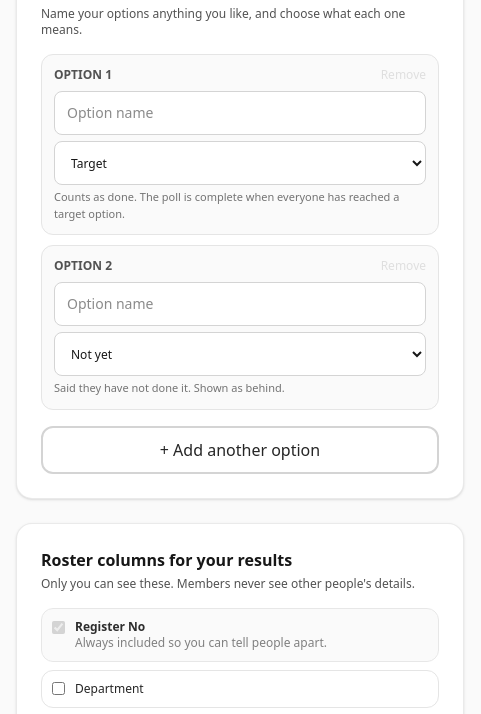
NewPollPage › options editor starts with two empty rows, defaults roles, shows help text, allows adding/removing, and deadline note is present without mode radio group
The width and height of the screenshot is (481, 714).
(page scrolled)
Expected: the text "Name your options anything you like, and choose what each one means." is shown, [41,6,439,38]
Expected: the number of fields with placeholder "Option name" is 2, [54,91,426,135]; [54,282,426,326]
// Changing second role to "In progress" updates help text
Step 1. Select "In progress" in the dropdown named "Option 2 role" → (240, 354), box [54,332,426,376]
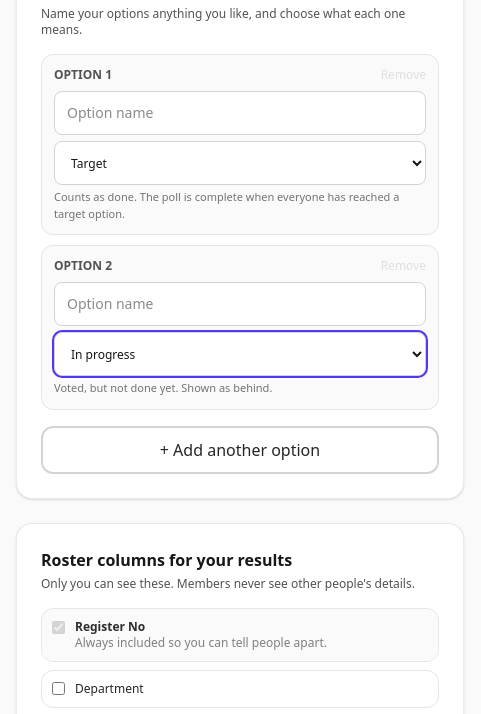
Expected: the text "Voted, but not done yet. Shown as behind." is shown, [54,380,272,395]
// Adding an option row adds a row defaulting to not_yet
Step 2. Click the button "+ Add another option" → (240, 450), box [41,426,439,474]
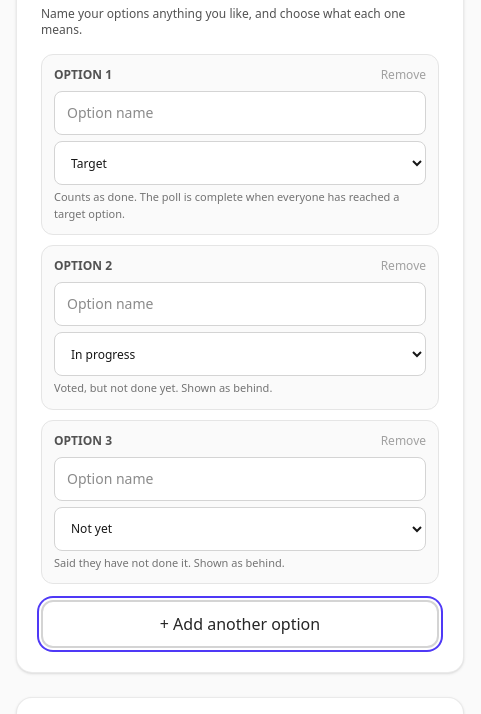
Expected: the number of fields with placeholder "Option name" is 3, [54,91,426,135]; [54,282,426,326]; [54,456,426,500]
Expected: the number of dropdowns named "Option 1 role" is 3, [54,141,426,185]; [54,332,426,376]; [54,506,426,550]
Expected: the dropdown named "Option 3 role" shows "Not yet", [54,506,426,550]
Step 3. Click the button with aria-label "Remove option" → (403, 440), box [381,432,426,448]
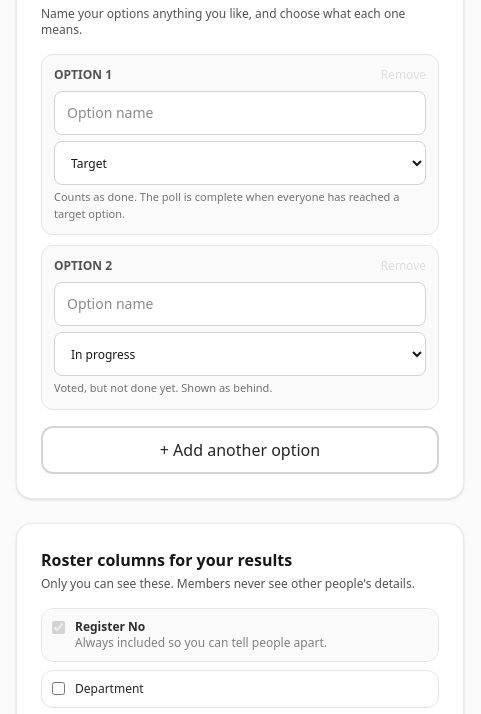
Expected: the number of fields with placeholder "Option name" is 2, [54,91,426,135]; [54,282,426,326]
